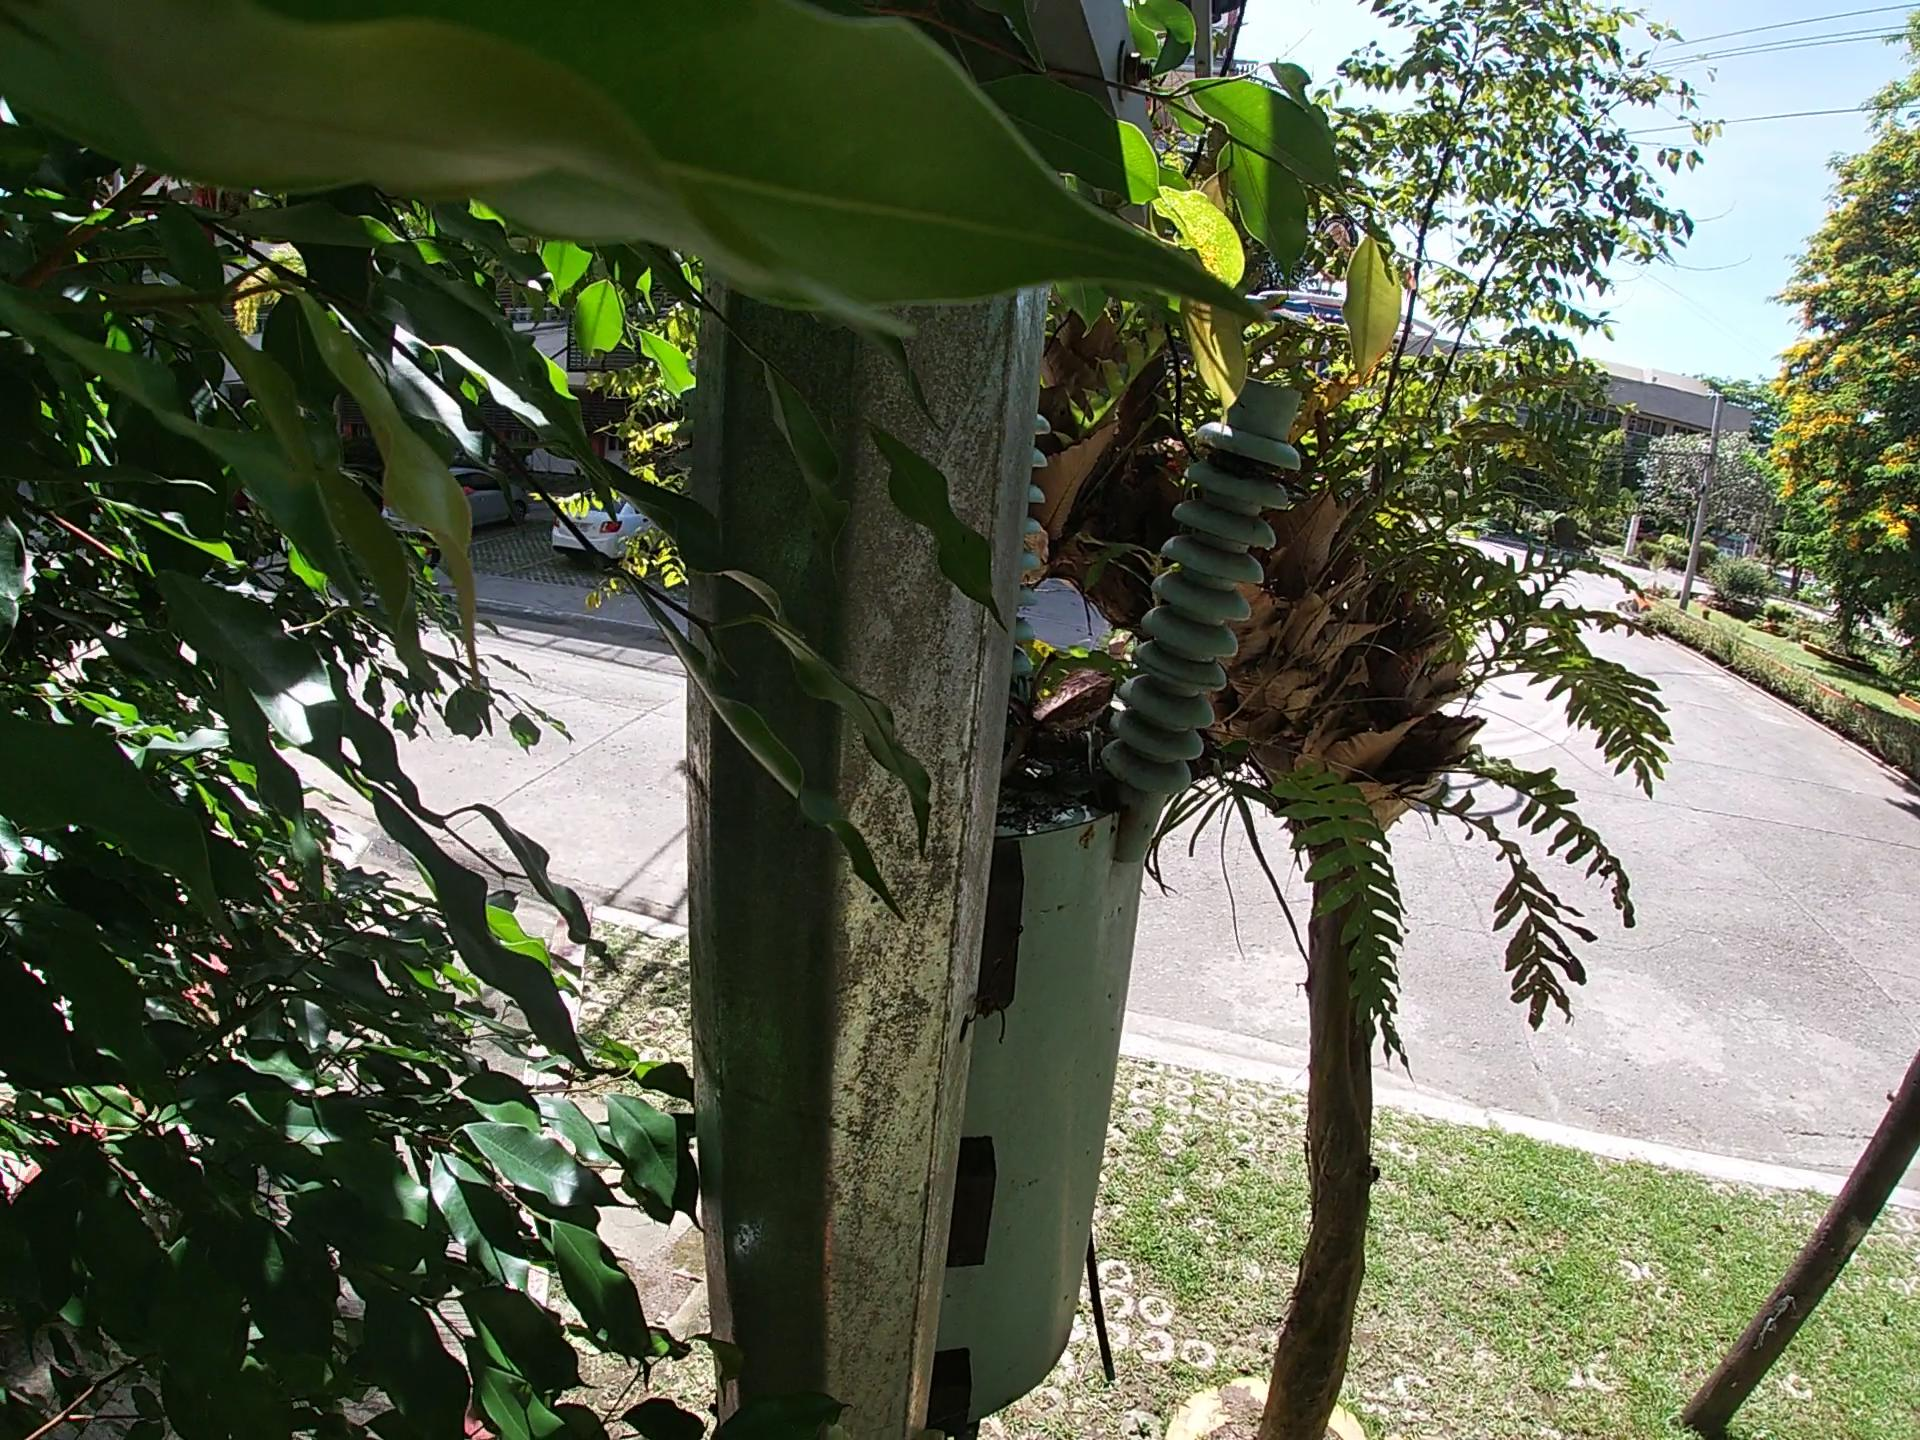branch with leaves: (918, 611, 1237, 864)
mahogany fruit: (921, 629, 1120, 777)
tree branch: (1010, 610, 1157, 855)
